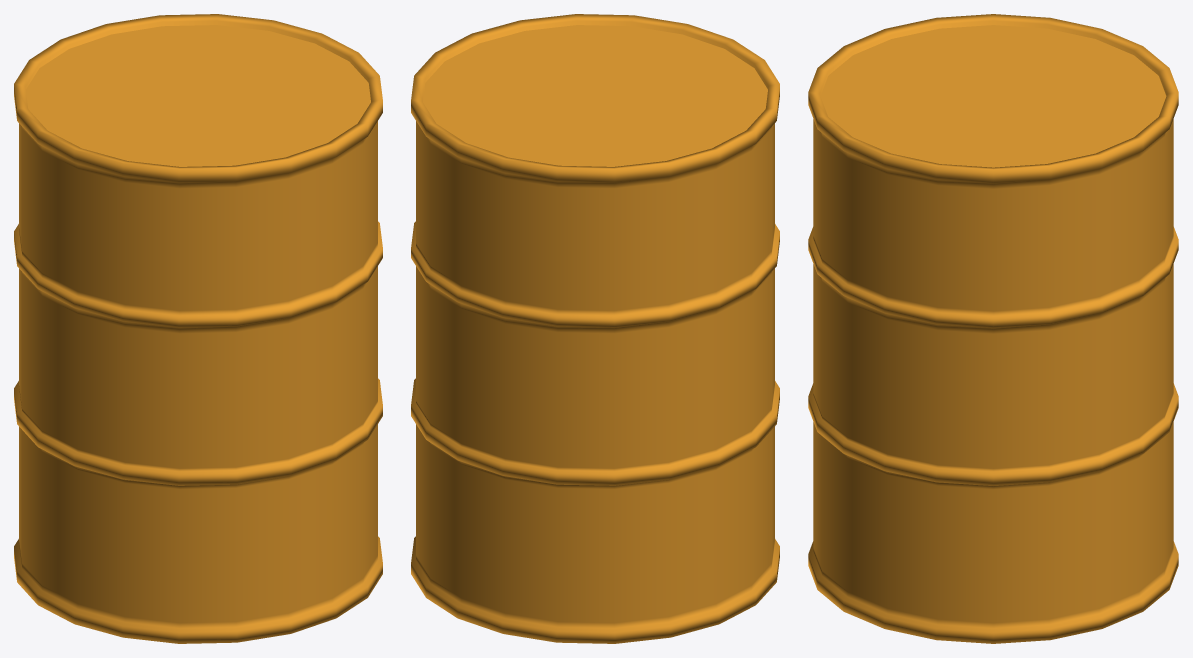
File: Besen.fbx
3 views of the same model, side by side, from view 1: azimuth 30°, elevation 25°; view 2: azimuth 150°, elevation 25°; view 3: azimuth 270°, elevation 25° (orthographic).
Visible parts, largest first — view 1: Cylinder.007; view 2: Cylinder.007; view 3: Cylinder.007.
Part boxes in pixels (x1,y1,x2,y2): Cylinder.007: (14,14,382,643); Cylinder.007: (411,14,779,643); Cylinder.007: (808,14,1178,643).
Bounding box in the file's own units: 48.53 × 68.46 × 48.53.
